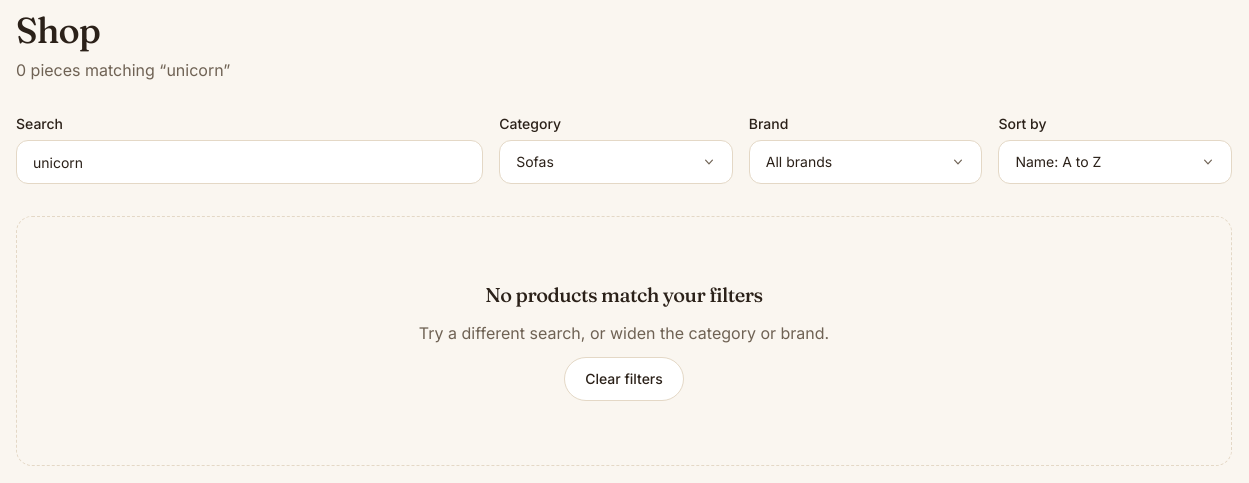
Test case: shop page › says when nothing matches and clears the filters
Expected: the heading "No products match your filters" is shown, [485, 281, 763, 309]
What coordinates should you click on to do the following:
click the button "Clear filters"
I would click on:
 (624, 379)
Its box is [564, 357, 684, 401].
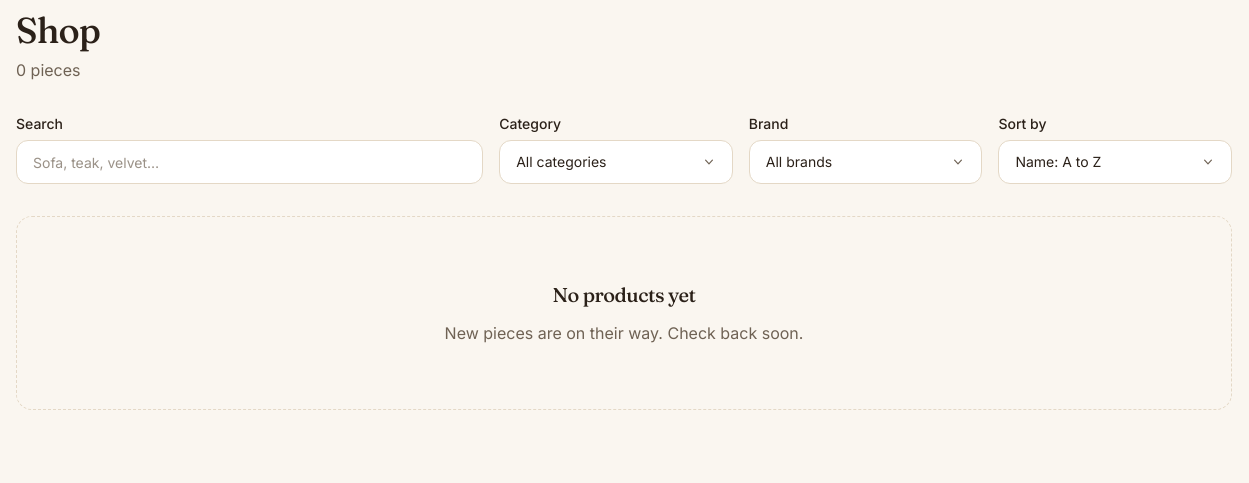
Now the search field labelled "Search" is empty, box [16, 140, 483, 184]
